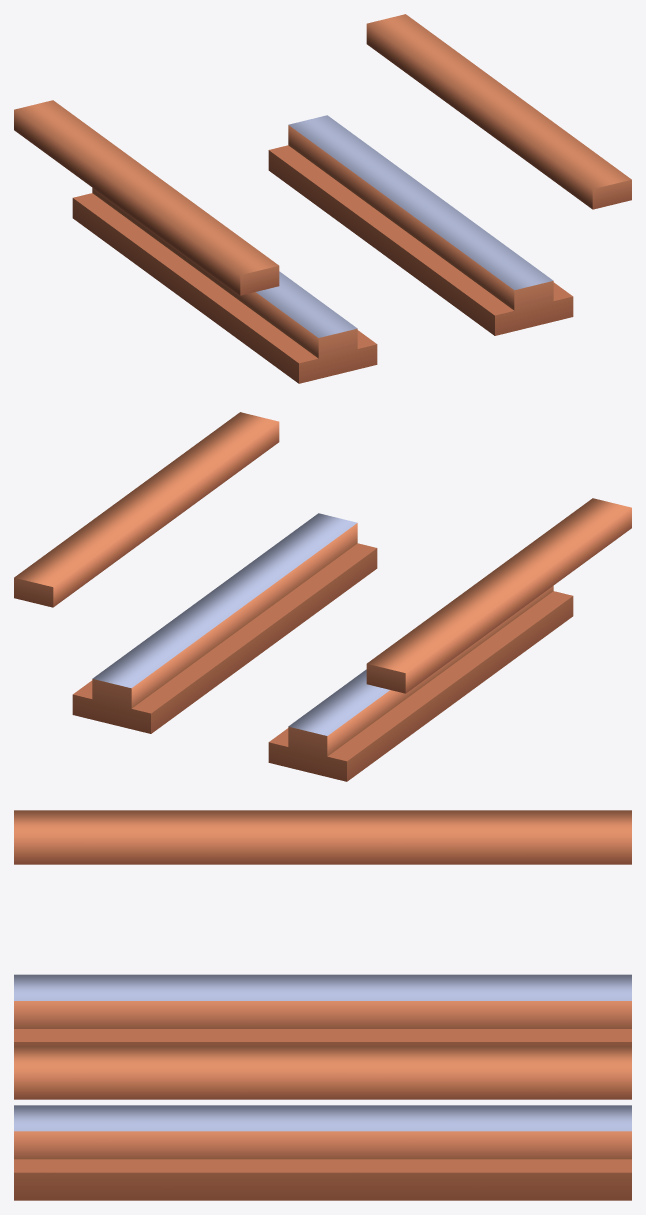
The model's file is kenney-coaster-coaster-wood-track.glb.
The picture shows the model from 3 angles, top to bottom: view 1: azimuth 30°, elevation 25°; view 2: azimuth 150°, elevation 25°; view 3: azimuth 270°, elevation 25°; orthographic projection. The views are drawn at different scales.
Parts seen in each view (by area): view 1: coaster-wood-track; view 2: coaster-wood-track; view 3: coaster-wood-track.
Part boxes in pixels (<box>): coaster-wood-track: <box>14,14,631,383</box>; coaster-wood-track: <box>14,412,631,781</box>; coaster-wood-track: <box>14,810,631,1200</box>.
Bounding box in the file's own units: 1 × 0.3 × 1.
Materials: 1 (1 with a texture image).
